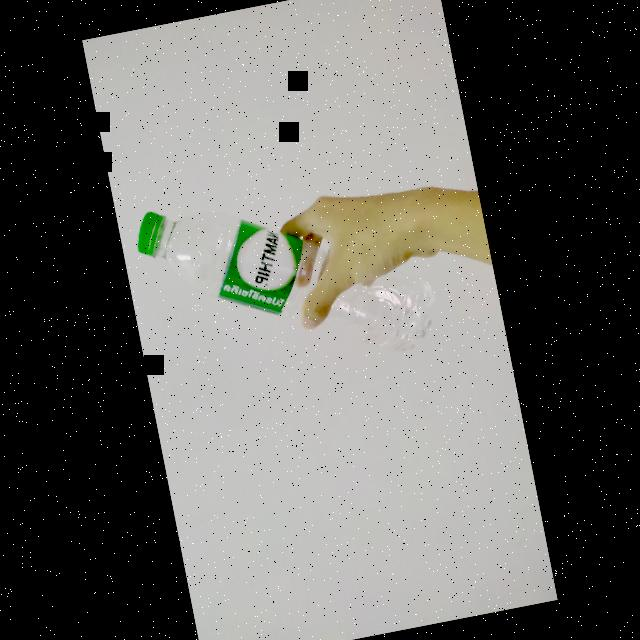plastic_bottle: (120, 146, 452, 405)
plastic_bottle_cap: (130, 206, 174, 259)
